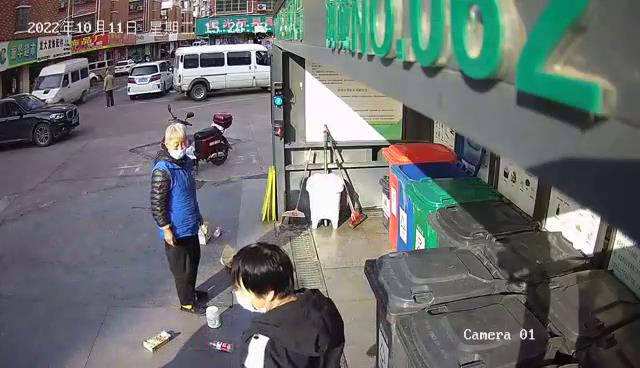lvzhipin: (205, 304, 223, 330)
person: (227, 239, 347, 368)
suliaozhipin: (201, 336, 235, 355), (210, 223, 225, 241)
worker: (147, 120, 208, 317)
zhizhipin: (140, 328, 175, 354)
